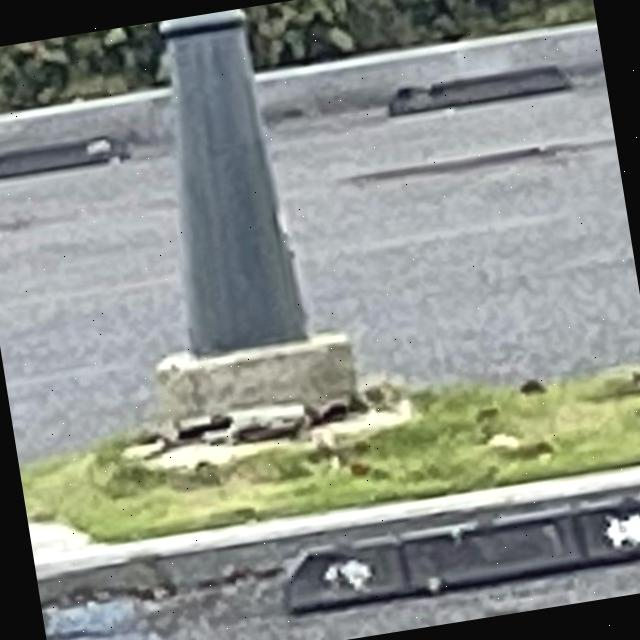curb: (34, 466, 640, 605), (257, 21, 603, 120), (0, 89, 171, 150)
